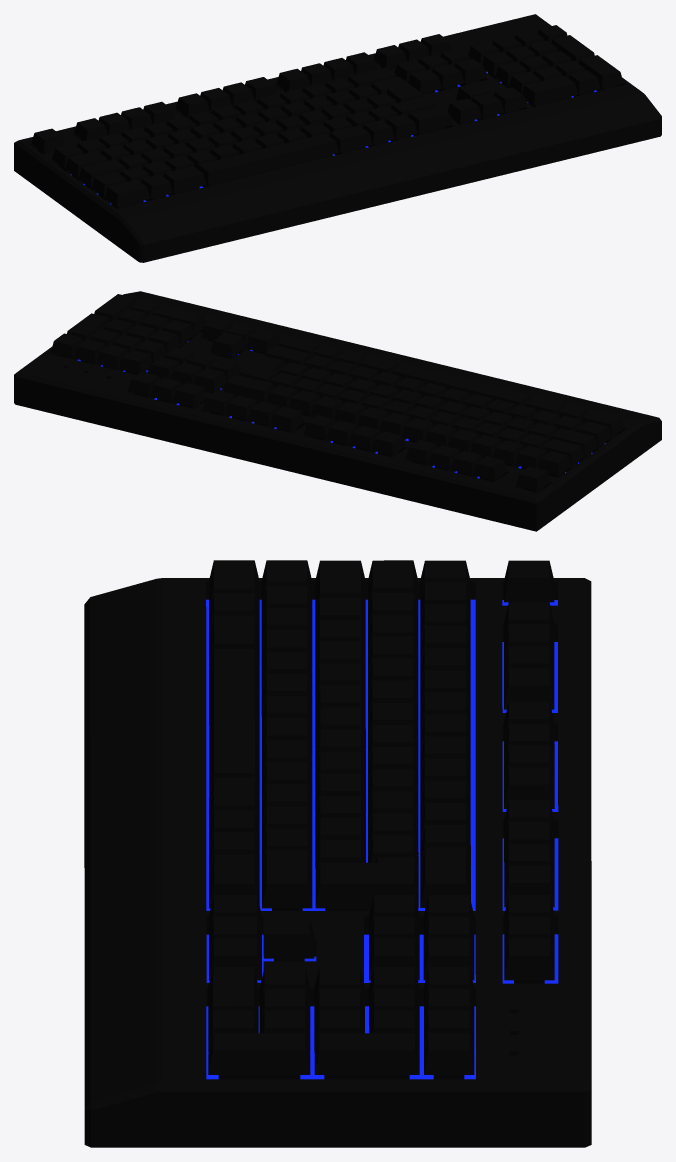
Rendered from keyboard.fbx.
3 renders of one model, top to bottom at view 1: azimuth 30°, elevation 25°; view 2: azimuth 150°, elevation 25°; view 3: azimuth 270°, elevation 25°, orthographic. The views are drawn at different scales.
Visible parts, largest first — view 1: sm_keyboard; view 2: sm_keyboard; view 3: sm_keyboard.
Part boxes in pixels (bbox=[...]): sm_keyboard: bbox=[14, 14, 661, 262]; sm_keyboard: bbox=[14, 291, 661, 531]; sm_keyboard: bbox=[84, 560, 591, 1147].
Size of the model in its own units: 37.54 by 2.96 by 15.77.
